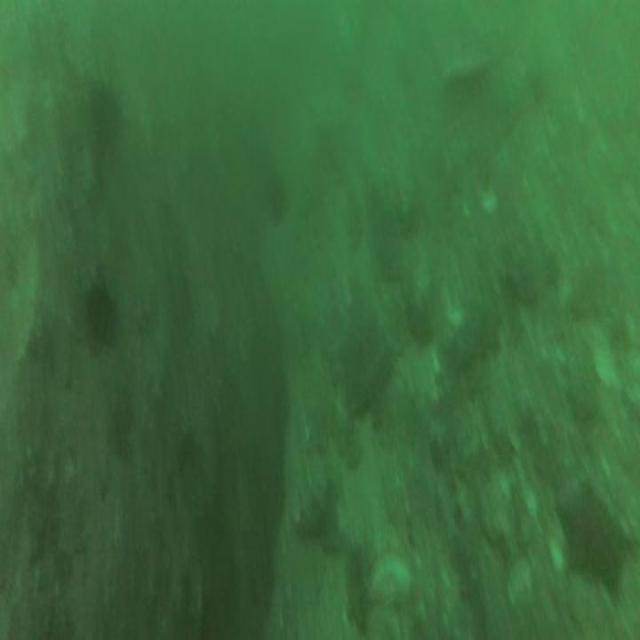echinus: (84, 284, 118, 348), (92, 82, 120, 144)
starfish: (558, 482, 628, 599)
